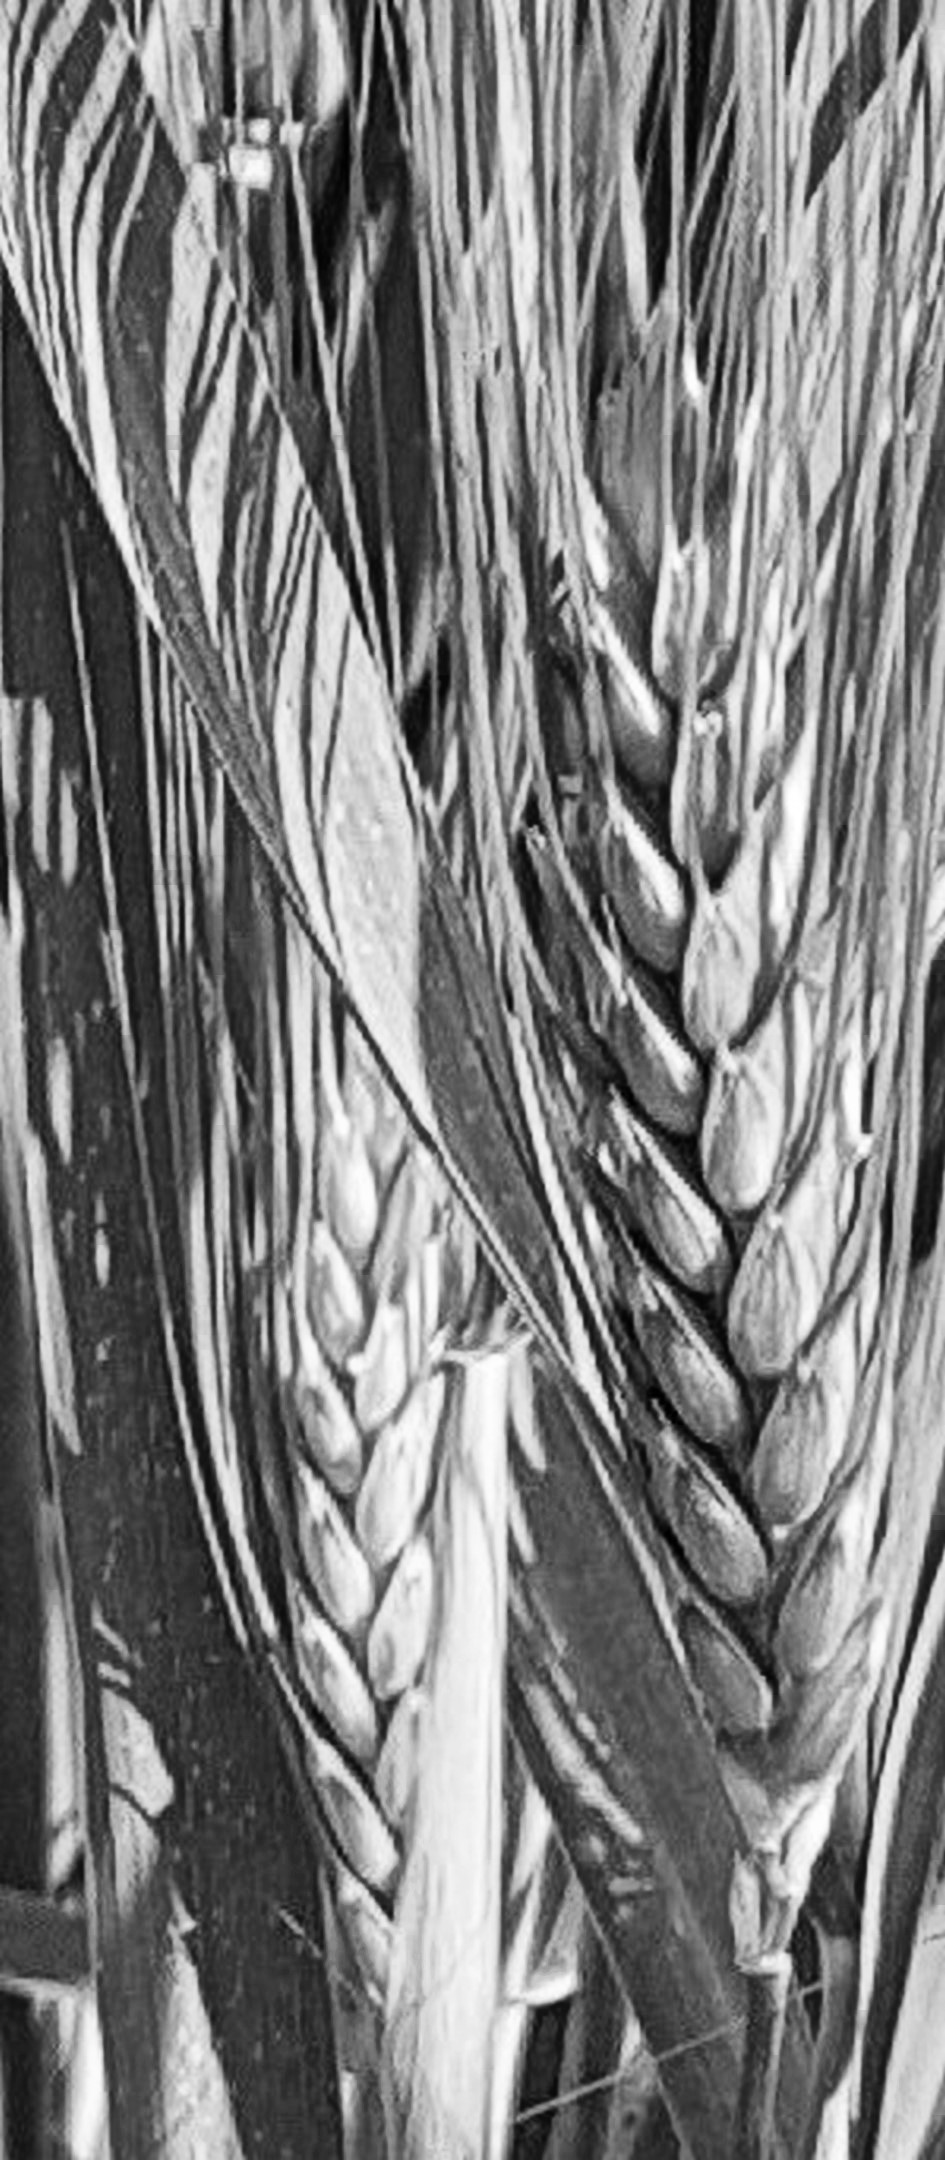Healthy Wheat: (536, 501, 945, 1856)
